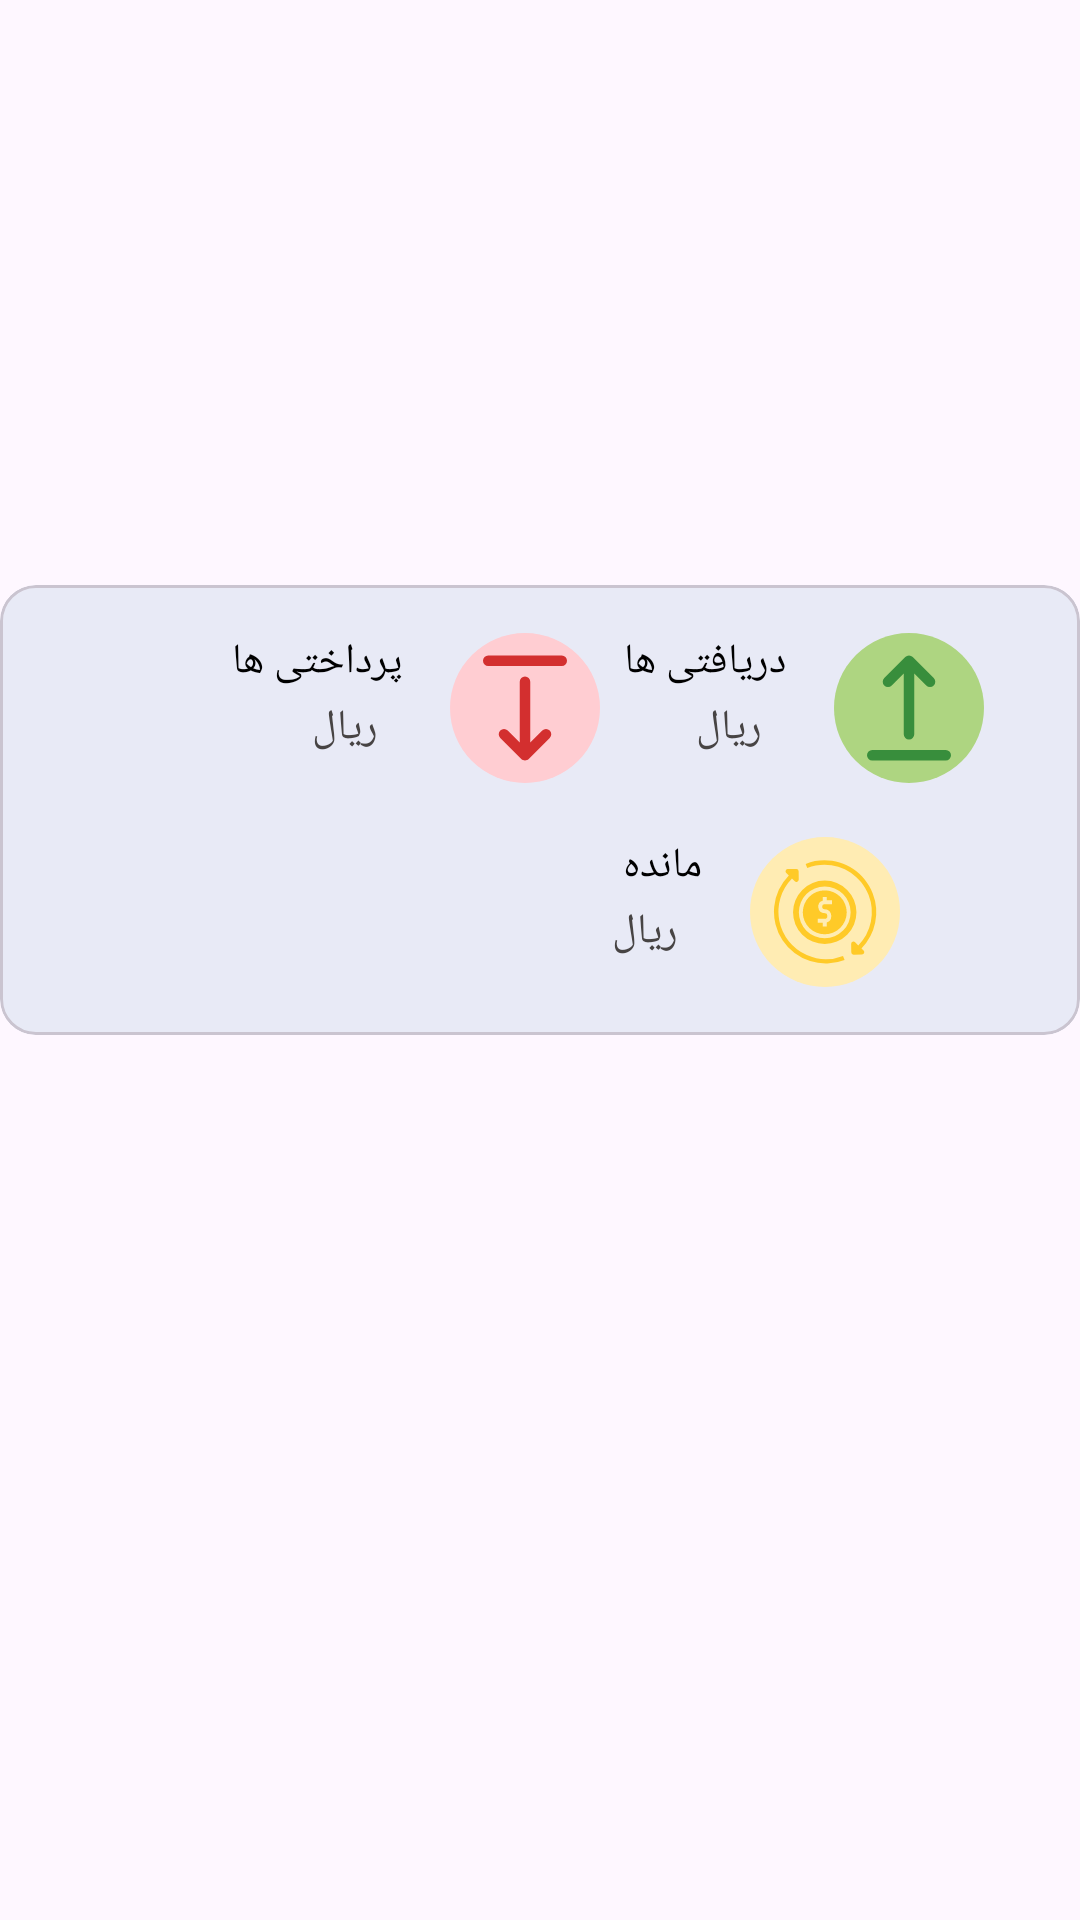

Named icons in this screenshot (1080*1920) and their centers, (x=x, y=y):
arrow down: (x=525, y=708)
arrow up: (x=909, y=708)
